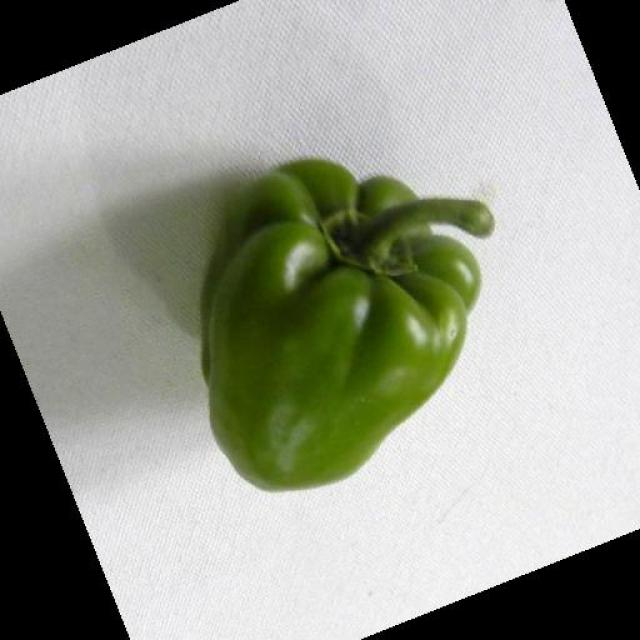Fresh_Capsicum: (207, 158, 462, 503)
